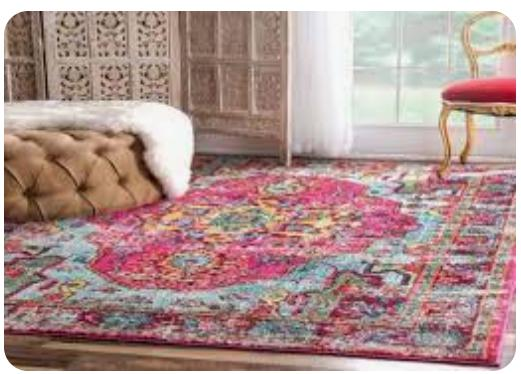carpet: (0, 147, 519, 364)
